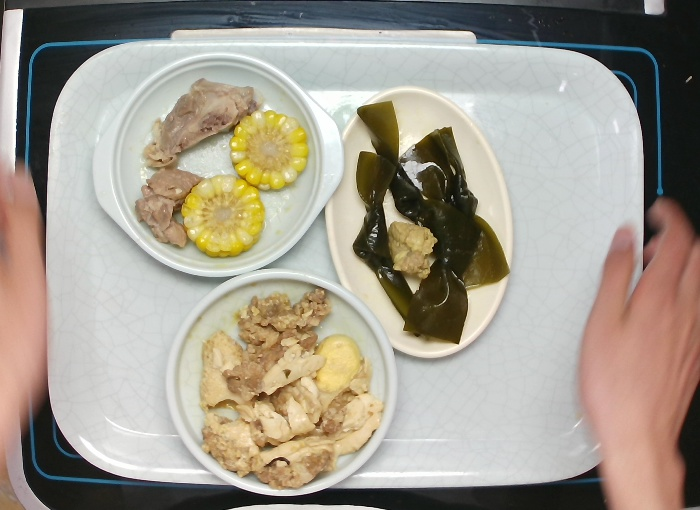JYsf-Shuang_Er_Pan: (91, 49, 346, 281)
JYsf-Tuo_Yuan_Wan: (323, 84, 516, 361)
JYsf-Xiao_Yuan_Pan: (161, 267, 402, 500)
